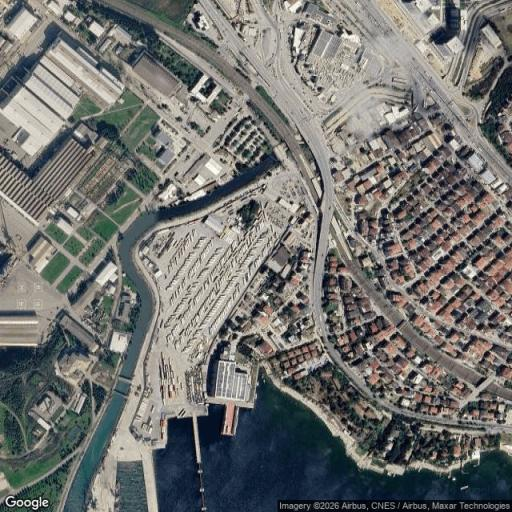ship: (459, 485, 469, 490), (255, 393, 258, 399), (452, 477, 456, 481), (261, 374, 264, 378), (256, 382, 258, 387), (263, 379, 265, 383)
